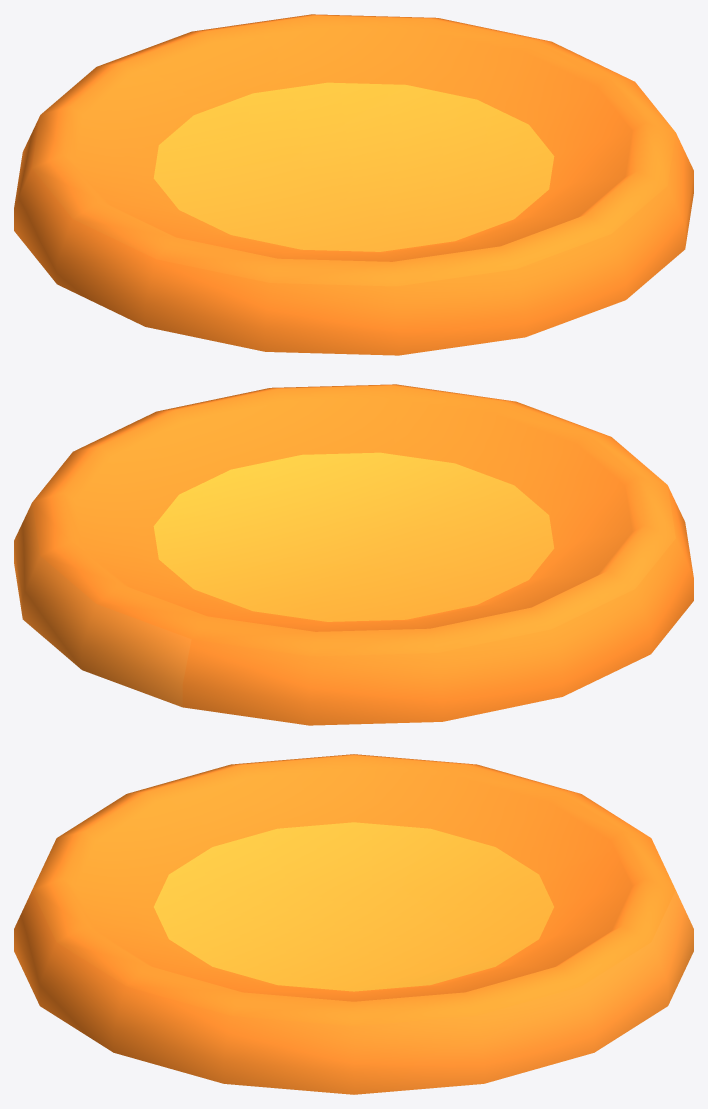
File: DogBedOrange.glb
3 renders of one model, top to bottom at view 1: azimuth 30°, elevation 25°; view 2: azimuth 150°, elevation 25°; view 3: azimuth 270°, elevation 25°, orthographic.
Parts seen in each view (by area): view 1: DogBedOrange; view 2: DogBedOrange; view 3: DogBedOrange.
Boxes of the visible parts, bbox=[...] form: DogBedOrange: bbox=[14, 14, 693, 355]; DogBedOrange: bbox=[14, 384, 693, 725]; DogBedOrange: bbox=[14, 754, 693, 1094].
Size of the model in its own units: 2 by 0.2348 by 2.
1 material, 1 textured.
